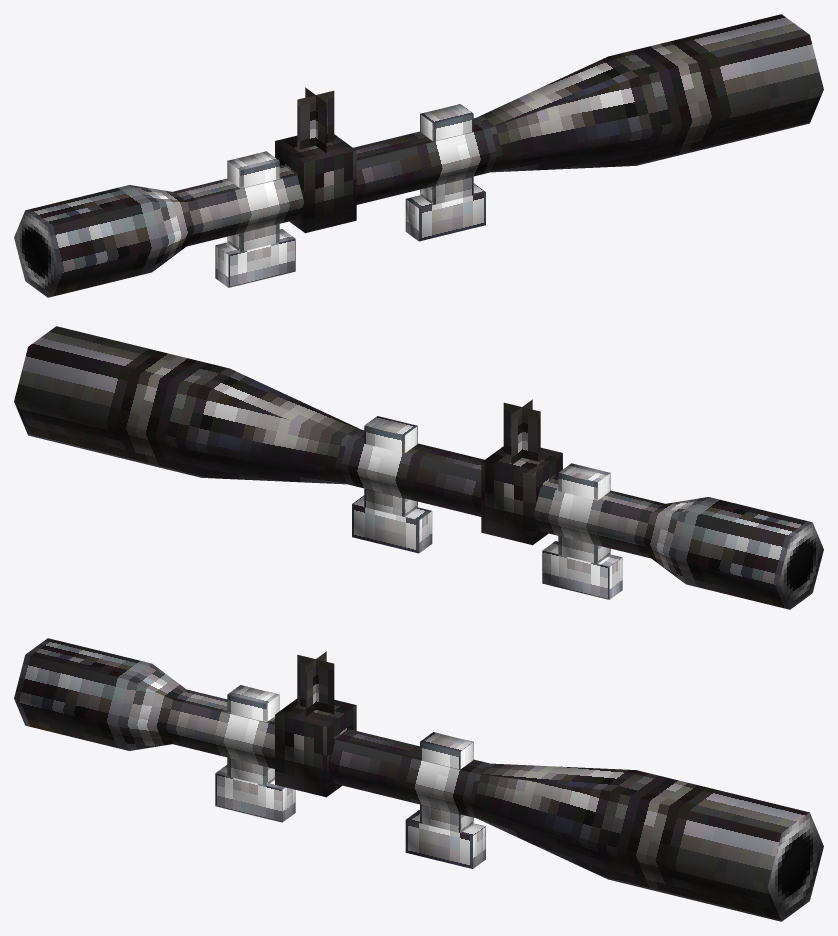
Rendered from remington700__N002_scope_v0100.glb.
3 views of the same model, one above another, from view 1: azimuth 30°, elevation 25°; view 2: azimuth 150°, elevation 25°; view 3: azimuth 330°, elevation 25° (orthographic).
Visible parts, largest first — view 1: N002_scope_v0100; view 2: N002_scope_v0100; view 3: N002_scope_v0100.
Boxes of the visible parts, box(x1,y1,x2,y2) form: N002_scope_v0100: box(14, 14, 823, 297); N002_scope_v0100: box(14, 326, 823, 609); N002_scope_v0100: box(14, 638, 823, 921).
Size of the model in its own units: 0.4374 by 0.0909 by 0.0564.
2 materials, 2 textured.
